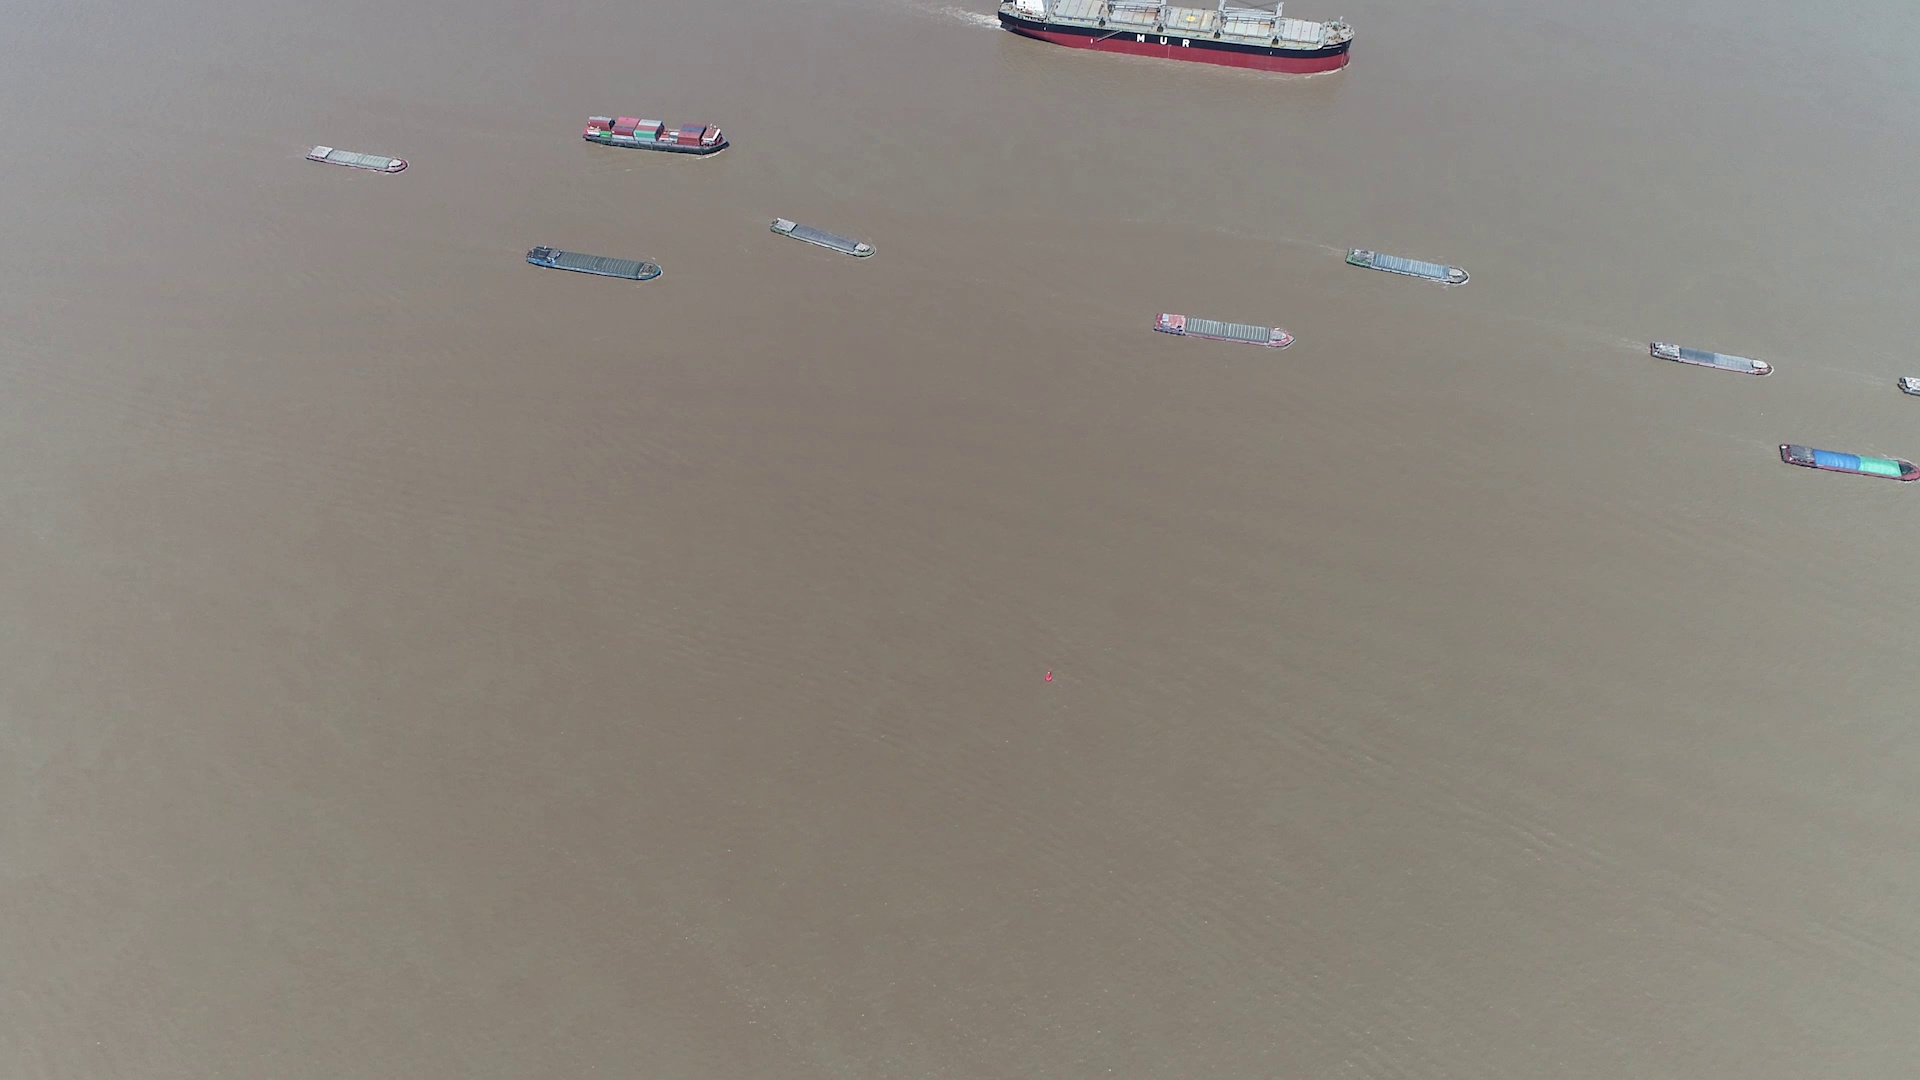ship: (1002, 0, 1350, 73), (582, 115, 731, 154), (1778, 443, 1920, 483), (525, 244, 662, 284), (1345, 245, 1469, 286), (1155, 313, 1292, 349), (771, 216, 877, 258), (1648, 339, 1771, 375), (305, 144, 409, 171), (1898, 373, 1919, 397)
